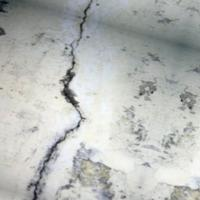crack: (25, 0, 119, 199)
